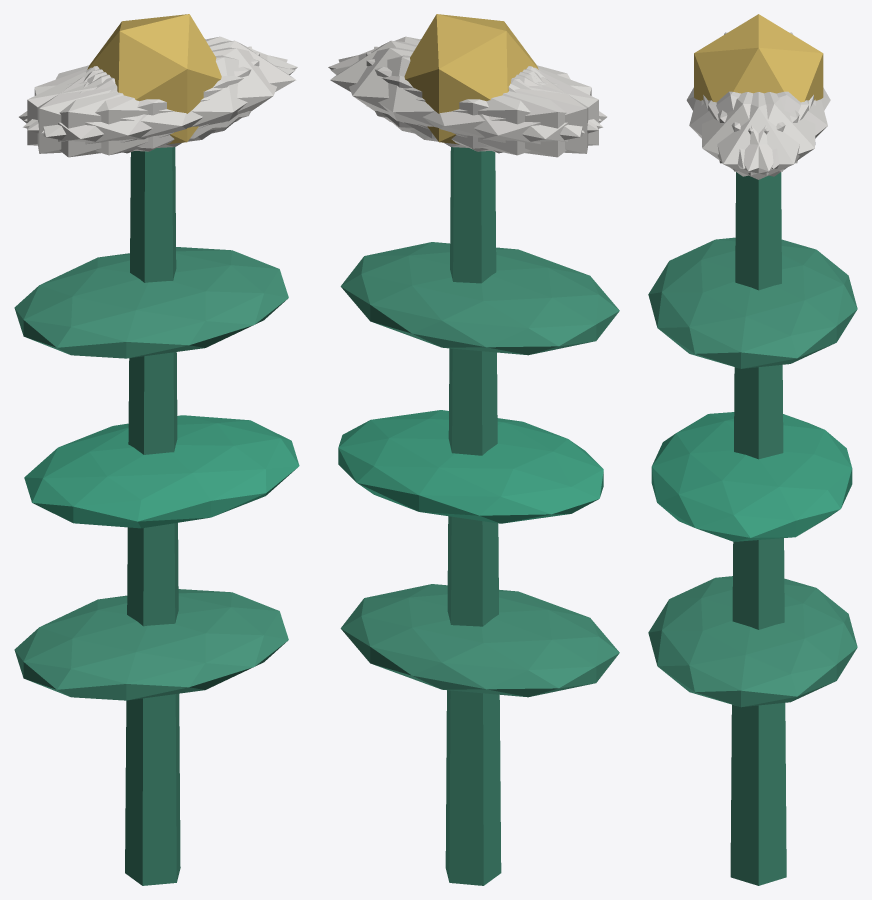
Rendered from tridax-procumbens.glb.
3 renders of one model, left to right at view 1: azimuth 30°, elevation 25°; view 2: azimuth 150°, elevation 25°; view 3: azimuth 270°, elevation 25°, orthographic.
Visible parts, largest first — view 1: stem, leaf1, leaf2, leaf0, center, petal1, petal6, petal2, petal5, petal7, petal0, petal4 (+2 smaller); view 2: stem, leaf2, leaf0, leaf1, center, petal8, petal3, petal7, petal4, petal2, petal0, petal5 (+2 smaller); view 3: stem, leaf2, leaf1, leaf0, center, petal0, petal4, petal5, petal8, petal1.
Boxes of the visible parts, left/top/right/bottom form: stem: left=125, top=147, right=180, bottom=885; leaf1: left=24, top=415, right=299, bottom=528; leaf2: left=14, top=247, right=288, bottom=358; leaf0: left=14, top=589, right=288, bottom=700; center: left=87, top=14, right=221, bottom=144; petal1: left=23, top=55, right=295, bottom=155; petal6: left=19, top=67, right=215, bottom=157; petal2: left=37, top=46, right=252, bottom=153; petal5: left=41, top=47, right=287, bottom=148; petal7: left=27, top=52, right=259, bottom=151; petal0: left=87, top=40, right=295, bottom=138; petal4: left=24, top=36, right=297, bottom=130; stem: left=445, top=147, right=501, bottom=885; leaf2: left=340, top=242, right=619, bottom=355; leaf0: left=340, top=584, right=619, bottom=697; leaf1: left=338, top=410, right=603, bottom=523; center: left=404, top=14, right=538, bottom=144; petal8: left=331, top=55, right=602, bottom=155; petal3: left=410, top=67, right=607, bottom=157; petal7: left=374, top=46, right=588, bottom=153; petal4: left=338, top=47, right=584, bottom=148; petal2: left=366, top=52, right=598, bottom=151; petal0: left=330, top=40, right=538, bottom=138; petal5: left=328, top=36, right=601, bottom=130; stem: left=730, top=172, right=786, bottom=885; leaf2: left=648, top=237, right=857, bottom=368; leaf1: left=651, top=412, right=852, bottom=541; leaf0: left=648, top=576, right=857, bottom=707; center: left=694, top=14, right=823, bottom=102; petal0: left=703, top=92, right=813, bottom=179; petal4: left=708, top=92, right=815, bottom=176; petal5: left=701, top=92, right=808, bottom=176; petal8: left=717, top=91, right=827, bottom=168; petal1: left=689, top=91, right=799, bottom=168.
Bounding box in the file's own units: 0.1452 × 0.4409 × 0.0993.
